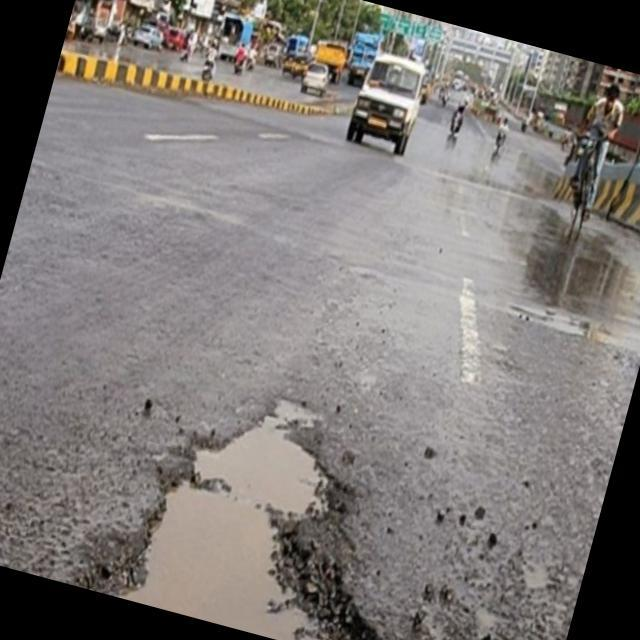Pothole: (49, 334, 436, 640)
